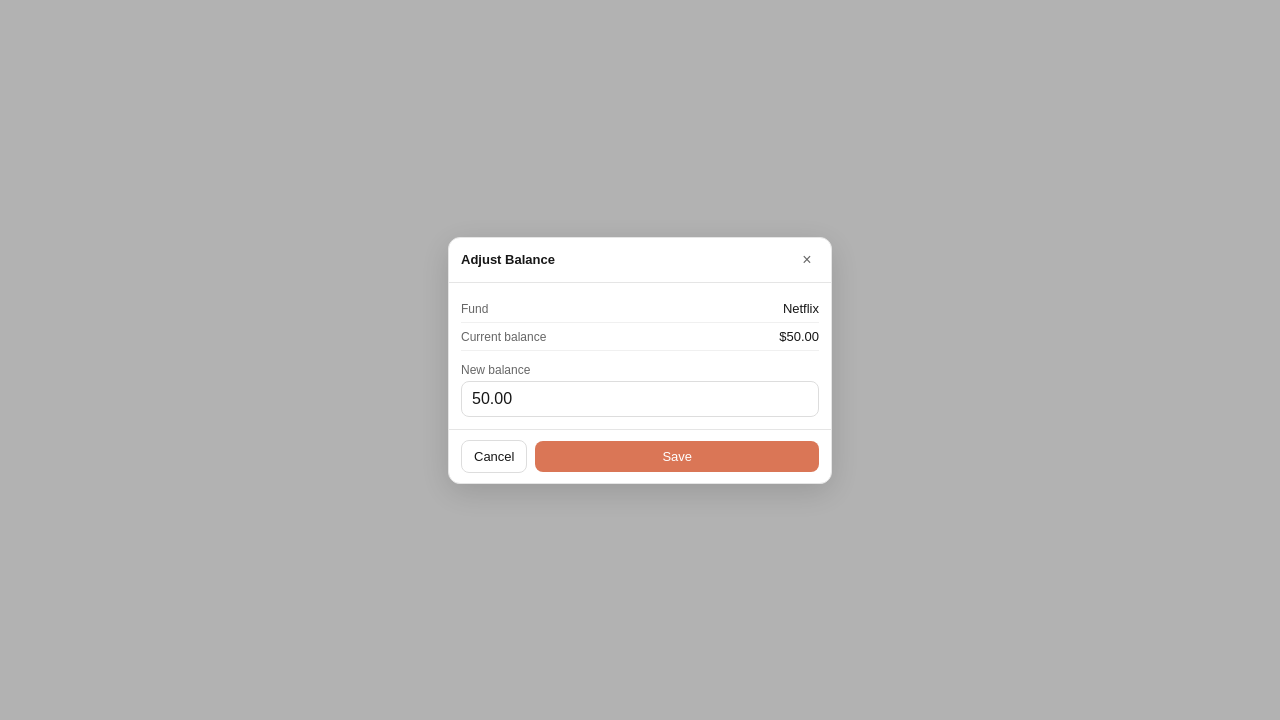
Test: AdjustBalanceModal › shows error on API failure
The image size is (1280, 720).
What coordinates should you click on to do the following:
click the button with test id "adjust-balance-modal-save"
I would click on:
 (677, 456)
Its box is [536,440,819,472].
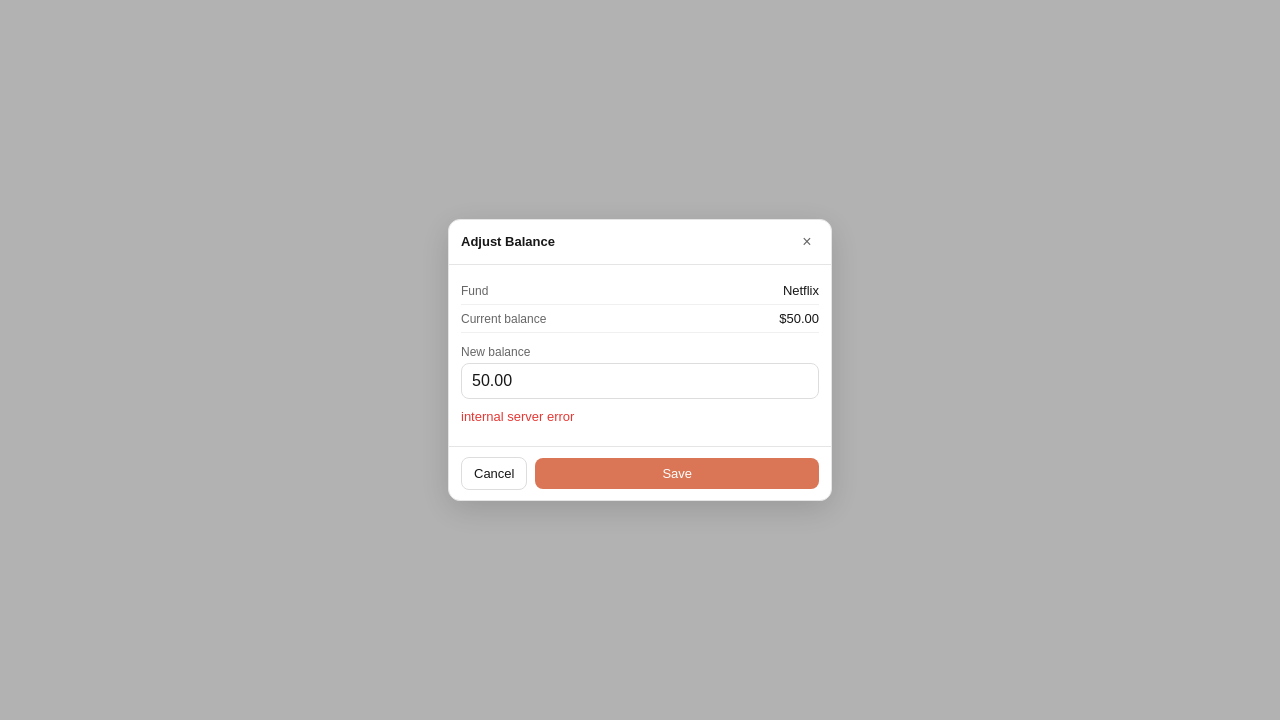
Result: the text "internal server error" is shown at [461,409,574,424]
